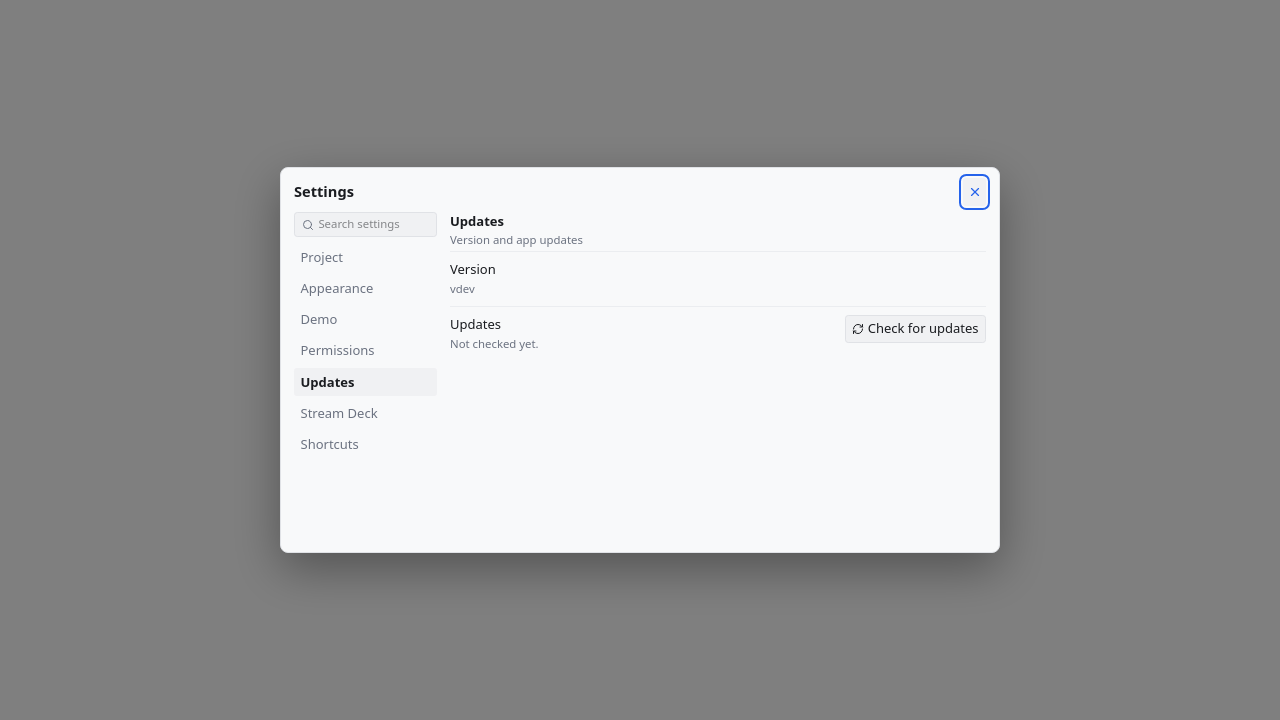
SettingsDialog › reports failed update checks
Click the button with test id "settings-update-check" at (915, 329), box [845,315,986,343]
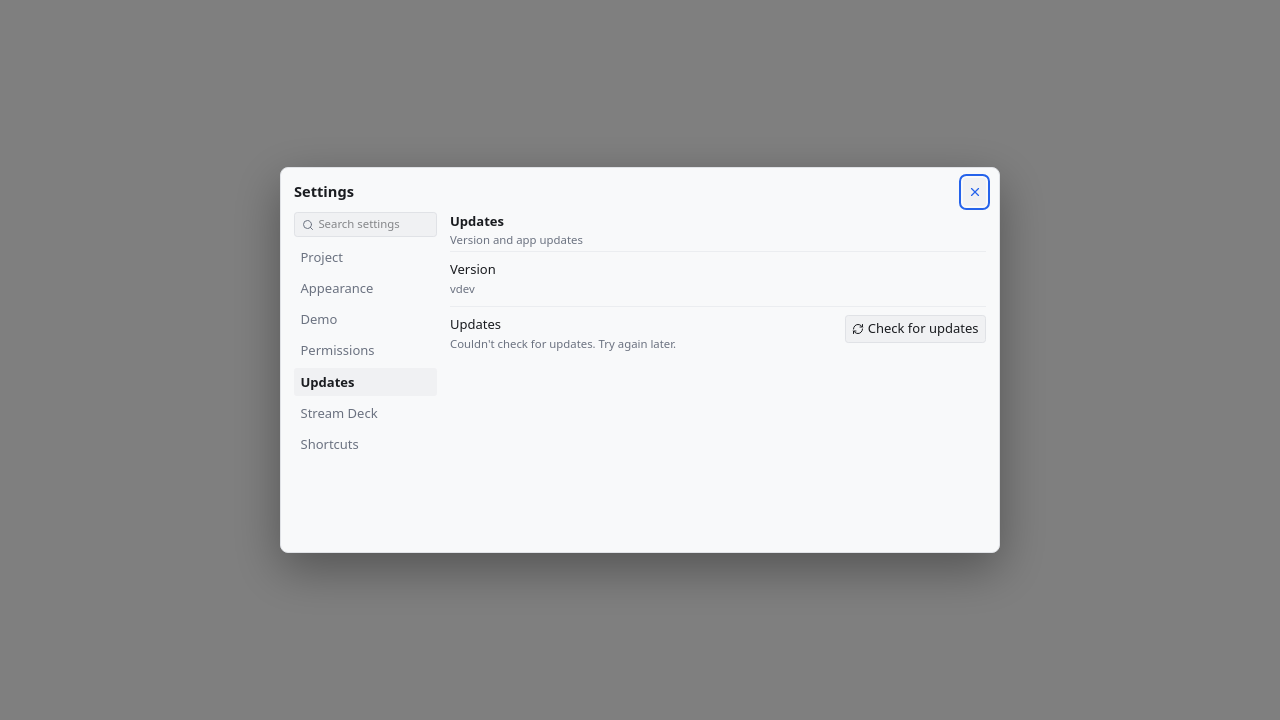
Check: the text with test id "settings-update-status" shows "Couldn't check", box [450,336,676,351]
